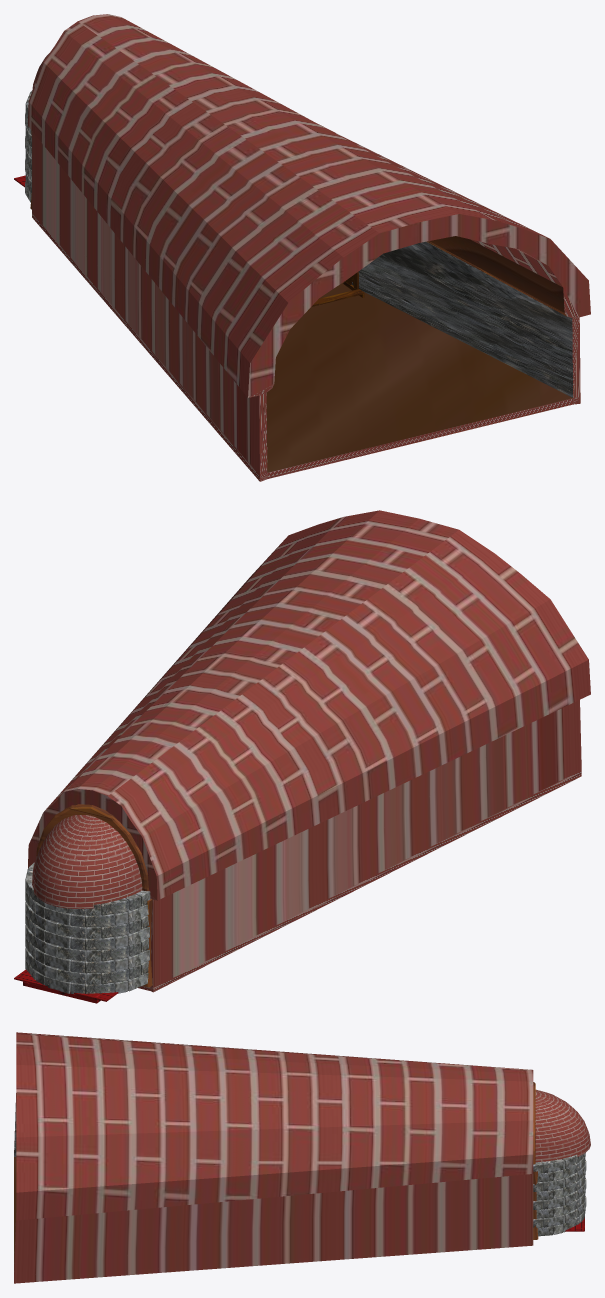
The model's file is webScene.gltf.
The picture shows the model from 3 angles, top to bottom: view 1: azimuth 30°, elevation 25°; view 2: azimuth 150°, elevation 25°; view 3: azimuth 270°, elevation 25°; orthographic projection. The views are drawn at different scales.
Parts seen in each view (by area): view 1: Cube.005, Cube.012; view 2: Cube.005, Cube.012, Sphere, Cube.002; view 3: Cube.005, Cube.012, Sphere, Cube.002.
Boxes of the visible parts, x1,y1,x2,y2 form: Cube.005: (28, 14, 590, 481); Cube.012: (25, 90, 32, 202); Cube.005: (28, 510, 590, 992); Cube.012: (25, 862, 150, 993); Sphere: (32, 815, 142, 908); Cube.002: (36, 804, 152, 987); Cube.005: (14, 1032, 533, 1283); Cube.012: (533, 1153, 586, 1236); Sphere: (535, 1089, 590, 1162); Cube.002: (533, 1082, 538, 1239).
Size of the model in its own units: 37.1 by 22.73 by 68.35.
12 materials, 12 textured.
